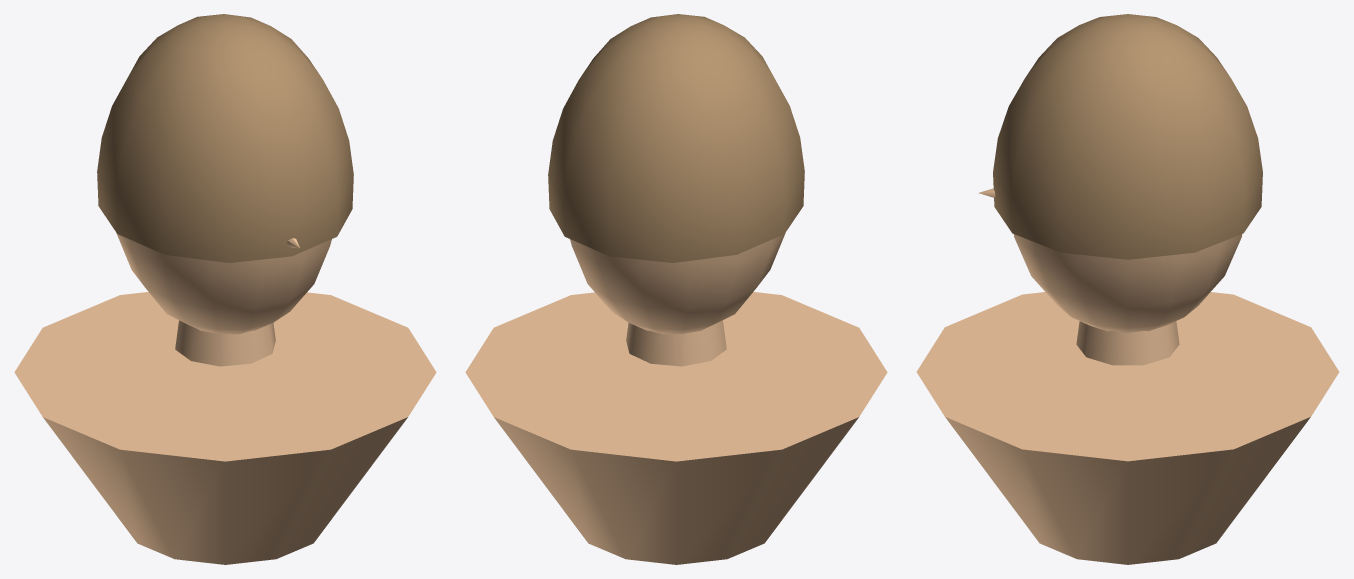
File: portrait05m_003.glb
The picture shows the model from 3 angles, left to right: view 1: azimuth 30°, elevation 25°; view 2: azimuth 150°, elevation 25°; view 3: azimuth 270°, elevation 25°; orthographic projection.
Bounding box in the file's own units: 1.72 × 2.25 × 1.72.
